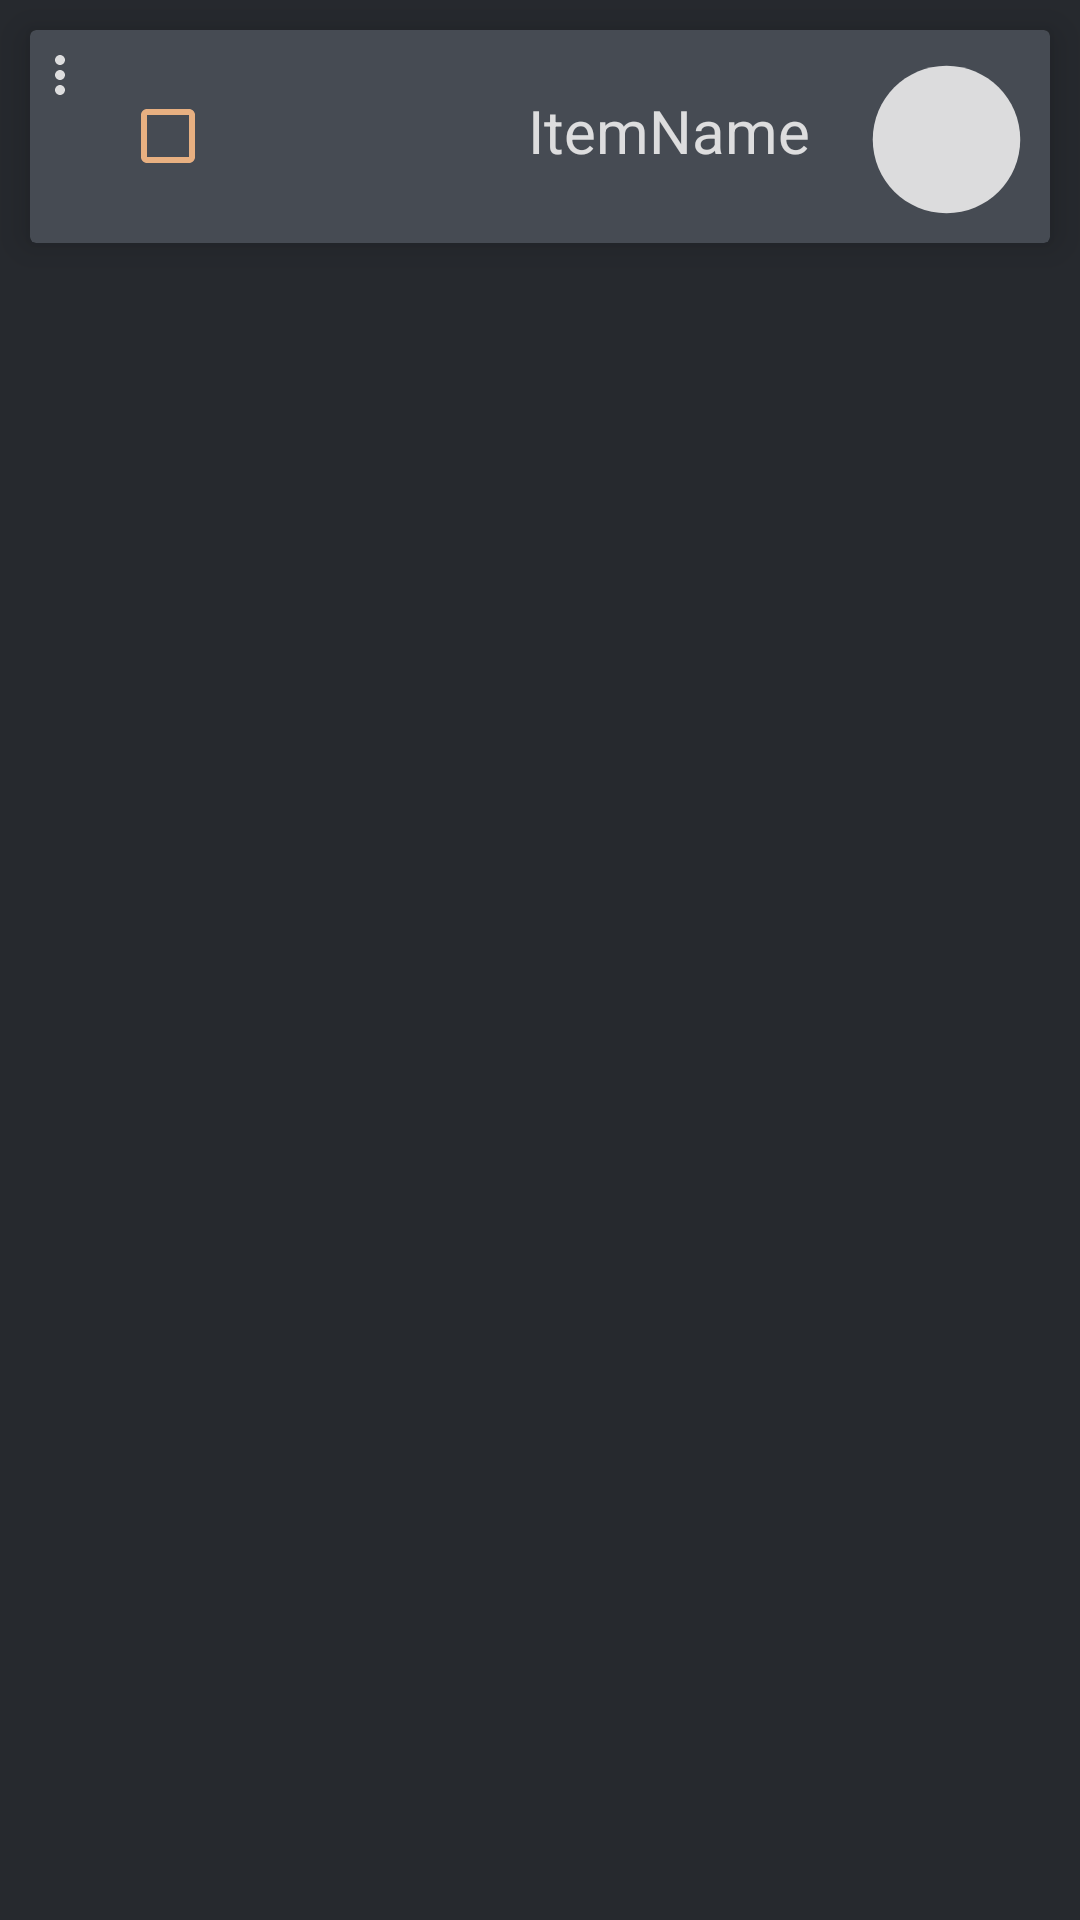

Icons on this 1080 x 1920 Android screen, each with its box as [x1=x1, y1=y1, x2=x2, y2=y2]:
more vert: [x1=55, y1=55, x2=65, y2=95]
